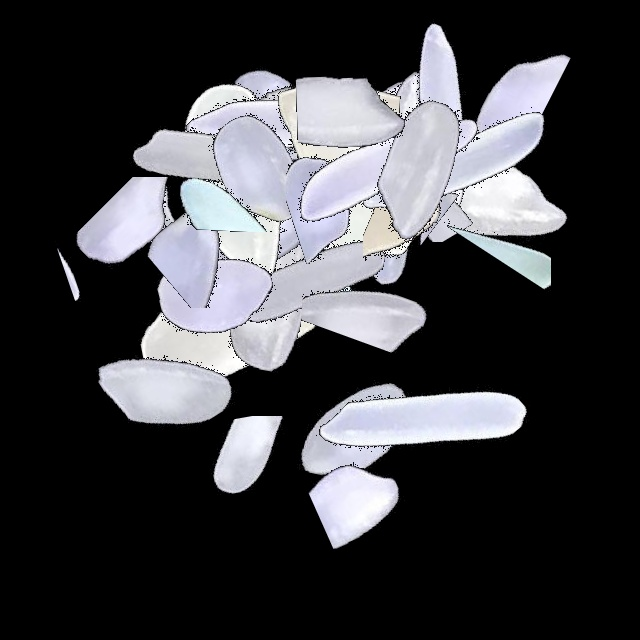Broken: (252, 31, 502, 192), (263, 408, 513, 561), (196, 64, 446, 214), (38, 177, 288, 326), (286, 66, 434, 316), (354, 7, 604, 151), (180, 8, 430, 151), (99, 165, 349, 308), (133, 416, 383, 556), (302, 146, 441, 396), (279, 58, 529, 183), (341, 24, 465, 274), (202, 97, 325, 347), (363, 123, 481, 373), (301, 126, 551, 242), (440, 66, 551, 316), (101, 143, 351, 252), (70, 162, 320, 266), (41, 68, 140, 318), (124, 133, 374, 232), (266, 155, 516, 252), (349, 141, 428, 391), (346, 71, 425, 321)
Full: (250, 96, 500, 346), (243, 94, 493, 344), (289, 88, 539, 338), (262, 44, 512, 294), (117, 190, 367, 440), (231, 81, 481, 331), (179, 0, 429, 250), (268, 19, 518, 269), (157, 128, 407, 378), (292, 12, 542, 262), (192, 0, 442, 250), (234, 303, 484, 553), (367, 84, 617, 334), (313, 0, 563, 250), (144, 170, 394, 420), (141, 99, 391, 349), (113, 55, 363, 305), (164, 0, 414, 250), (76, 34, 326, 284), (192, 157, 442, 407), (92, 167, 342, 417), (301, 298, 551, 548), (41, 259, 291, 509), (330, 37, 580, 287), (133, 44, 383, 294), (263, 38, 513, 288), (290, 45, 540, 295)
